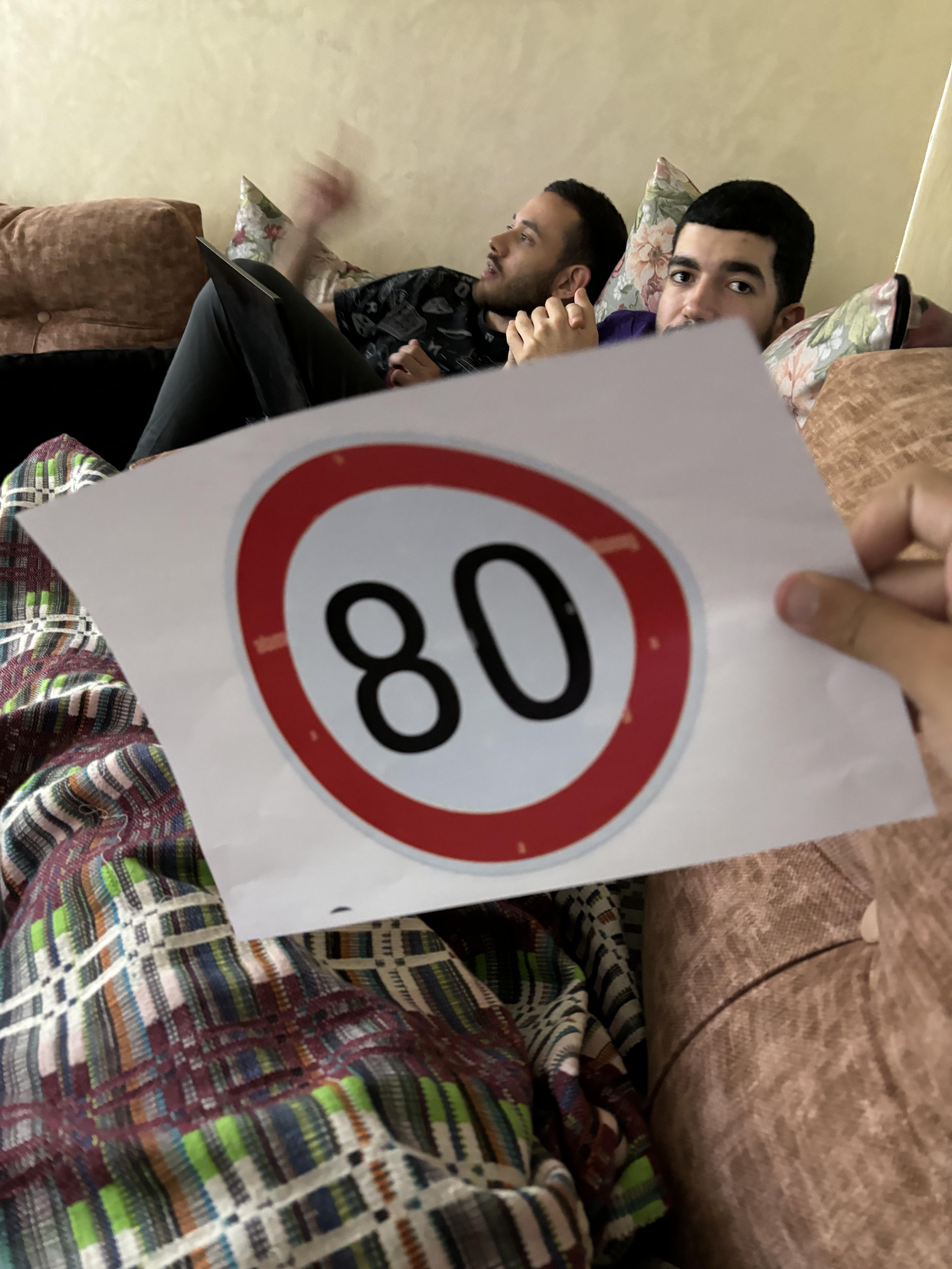80-Speed: (207, 416, 710, 877)
